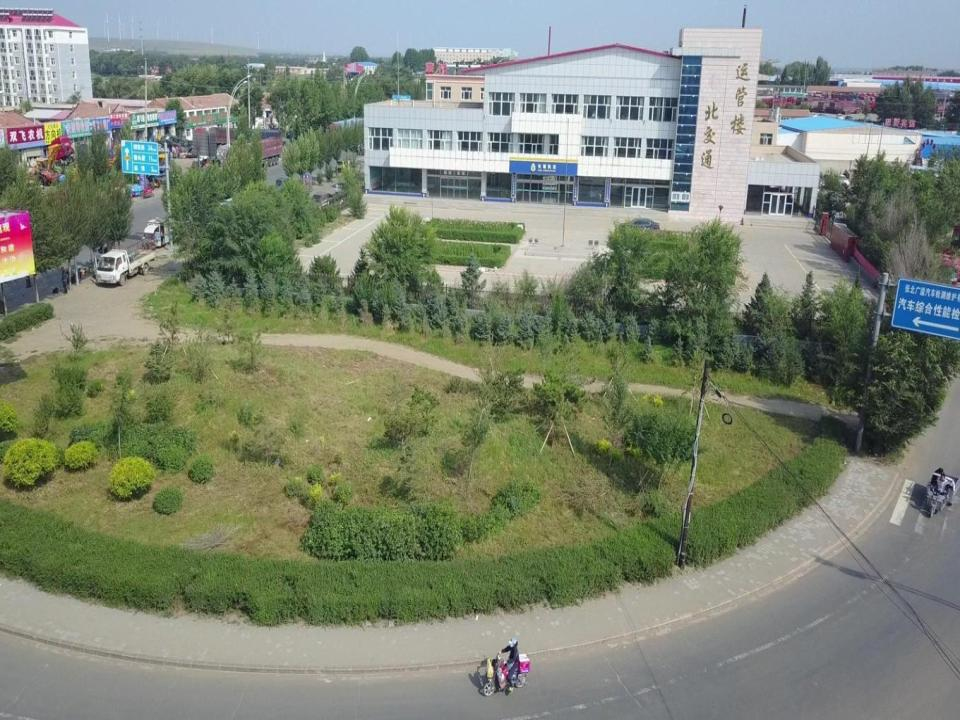car: (310, 191, 332, 204), (335, 180, 353, 194), (285, 129, 296, 138)
truck: (95, 250, 155, 286), (211, 126, 280, 154), (221, 138, 283, 168), (143, 217, 187, 246), (324, 117, 364, 138)
van: (275, 178, 294, 190), (336, 158, 349, 172)
